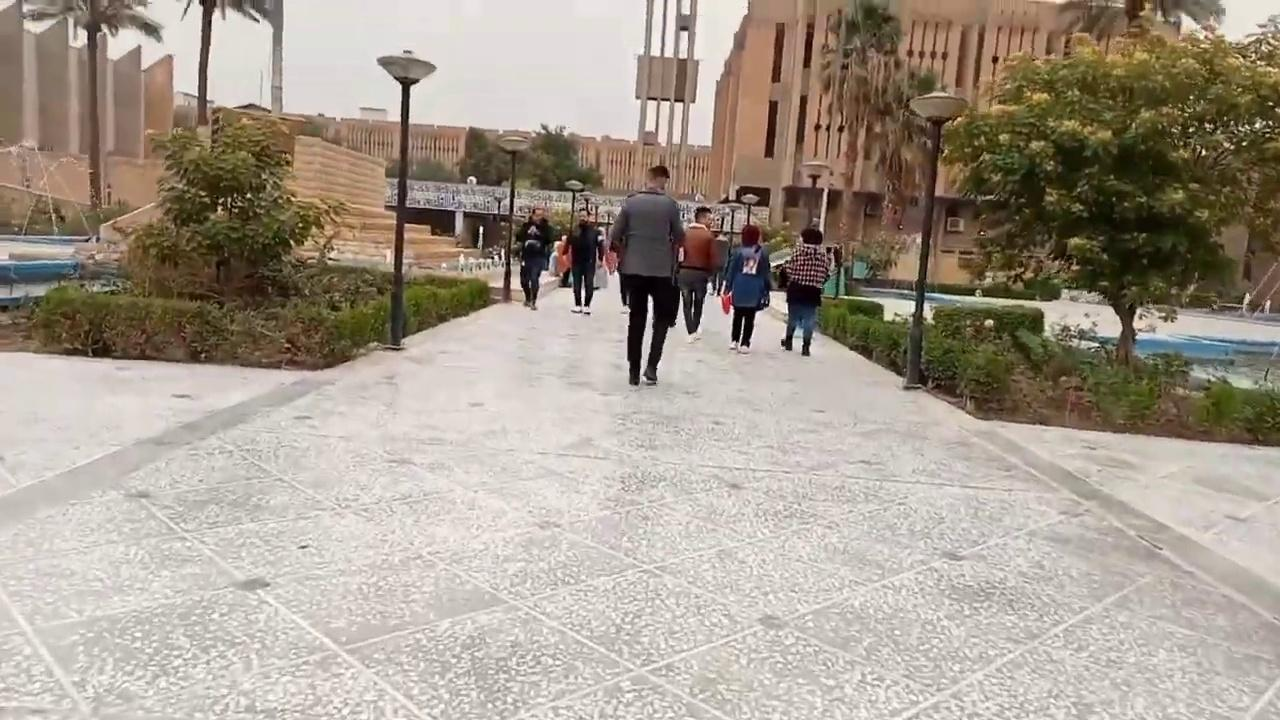fountain: (846, 279, 1278, 392), (0, 139, 128, 309), (440, 222, 507, 280), (440, 249, 504, 274)
person: (606, 164, 686, 386), (778, 227, 833, 356), (720, 224, 773, 354), (675, 205, 720, 343), (560, 208, 604, 314), (518, 206, 554, 310)
tree: (939, 23, 1278, 368), (121, 108, 356, 306), (20, 0, 163, 219), (813, 0, 938, 245), (174, 0, 268, 125), (524, 122, 604, 192), (455, 125, 512, 185)
